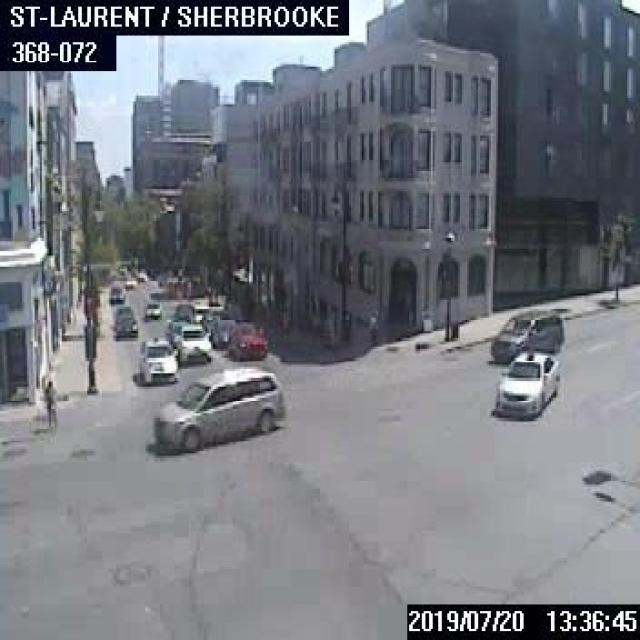pedestrian: (42, 376, 58, 426), (366, 311, 377, 343)
vehicle: (152, 368, 284, 451), (496, 348, 560, 418), (490, 306, 562, 362), (138, 336, 176, 382), (170, 321, 210, 361), (228, 318, 266, 357), (211, 318, 236, 347), (111, 315, 137, 337), (200, 311, 222, 335), (187, 301, 208, 323), (144, 300, 162, 318), (108, 284, 123, 302), (113, 303, 132, 316), (124, 276, 134, 288), (135, 269, 145, 279)
